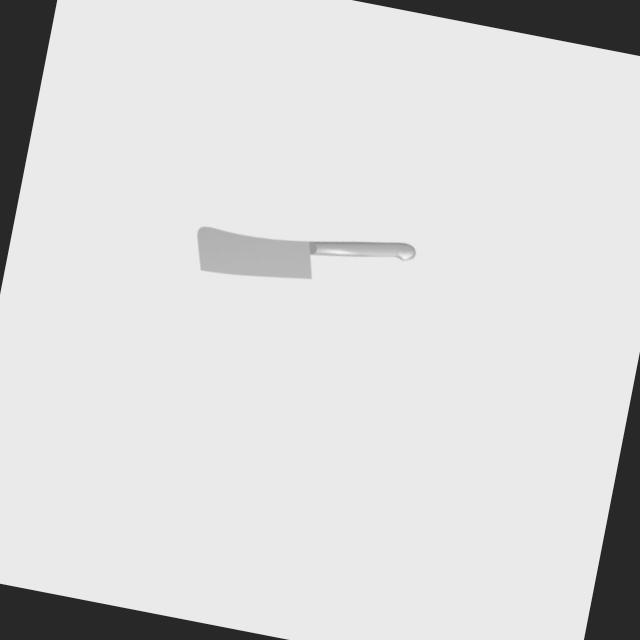knife: (306, 225, 416, 275)
